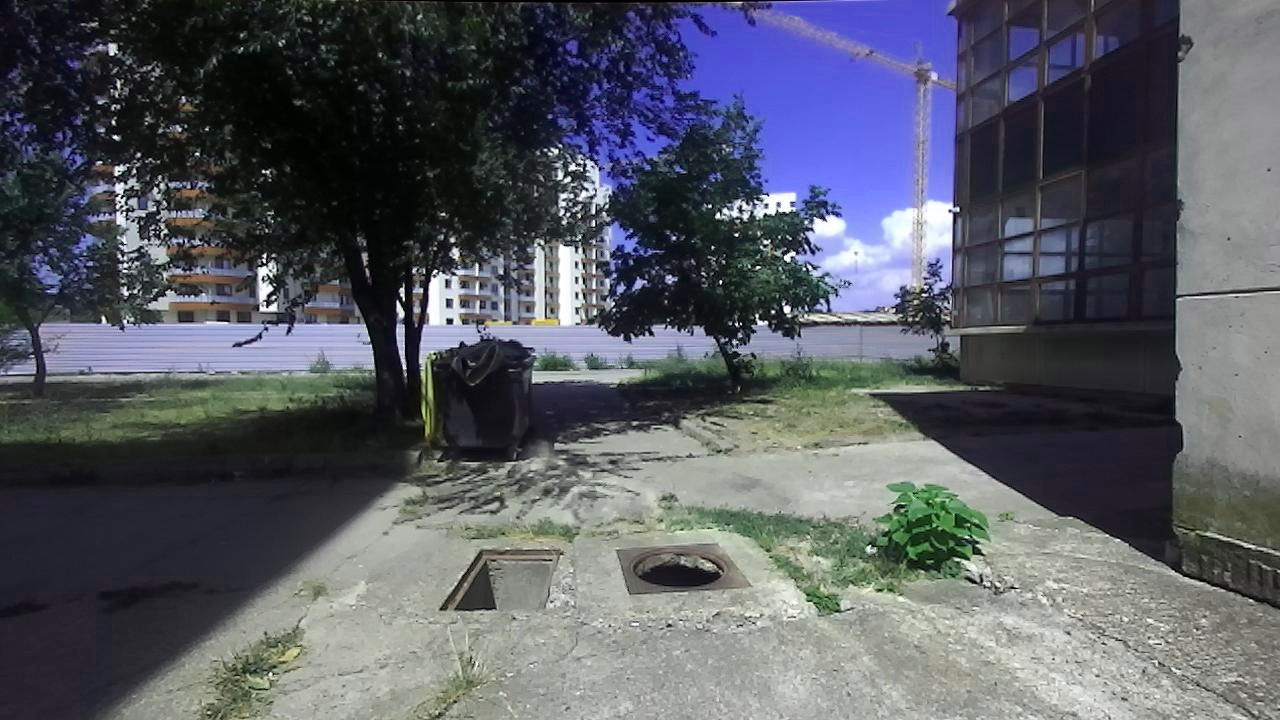drain: (436, 545, 563, 615), (628, 543, 731, 588)
